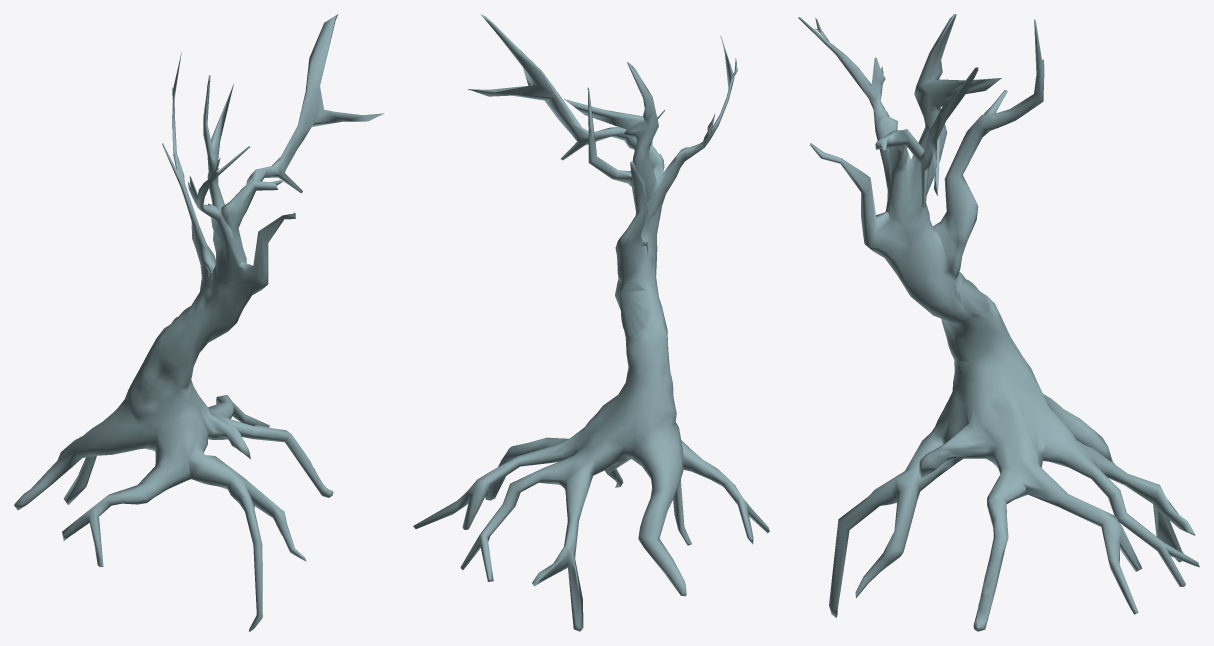
The model's file is MethaneTree.fbx.
3 renders of one model, left to right at view 1: azimuth 30°, elevation 25°; view 2: azimuth 150°, elevation 25°; view 3: azimuth 270°, elevation 25°, orthographic. The views are drawn at different scales.
Visible parts, largest first — view 1: tree2.001; view 2: tree2.001; view 3: tree2.001.
Part boxes in pixels (box(x1,y1,x2,y2)): tree2.001: box(14, 14, 384, 631); tree2.001: box(413, 14, 769, 631); tree2.001: box(798, 14, 1199, 631).
Bounding box in the file's own units: 159 × 270 × 155.
